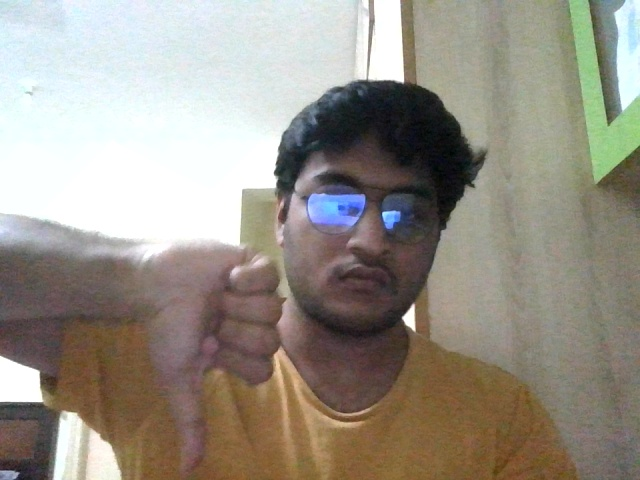thumbsdown: (147, 239, 282, 470)
